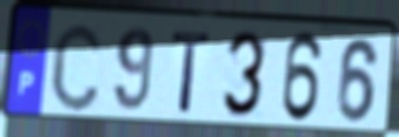3: (219, 29, 271, 122)
6: (334, 35, 382, 125), (280, 30, 324, 126)
9: (111, 25, 156, 115)
C: (47, 20, 105, 115)
T: (170, 29, 215, 116)
